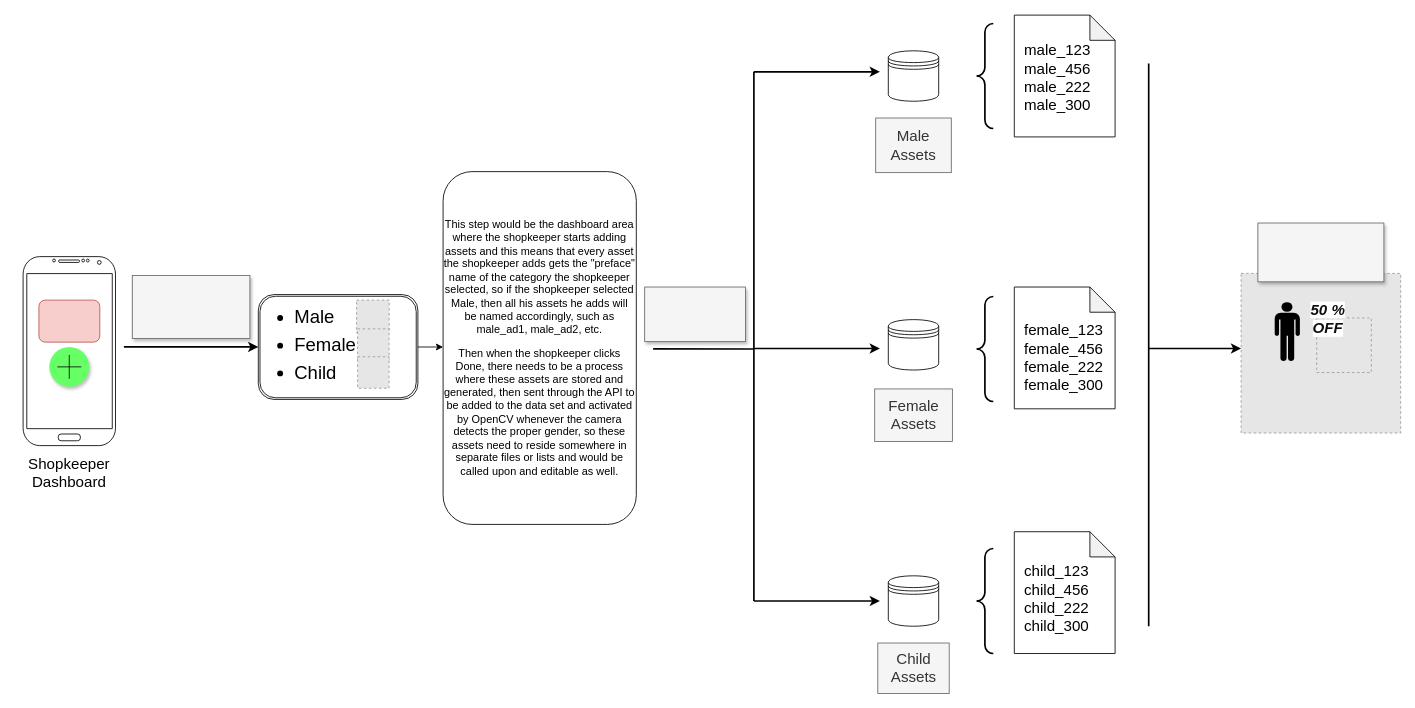
Image size: 1415x708. Some labels were removed from this diagram. Grey dashed boxes stand in for pictures. Each missing label, with the centre of its shape:
"Add Campaign" goes at pixel 69 320.
"Current active Campaign Assets are shown" goes at pixel 1321 253.
"Deploy / Update Asset data set" goes at pixel 695 315.
"Select Advertisement Category" goes at pixel 191 307.
